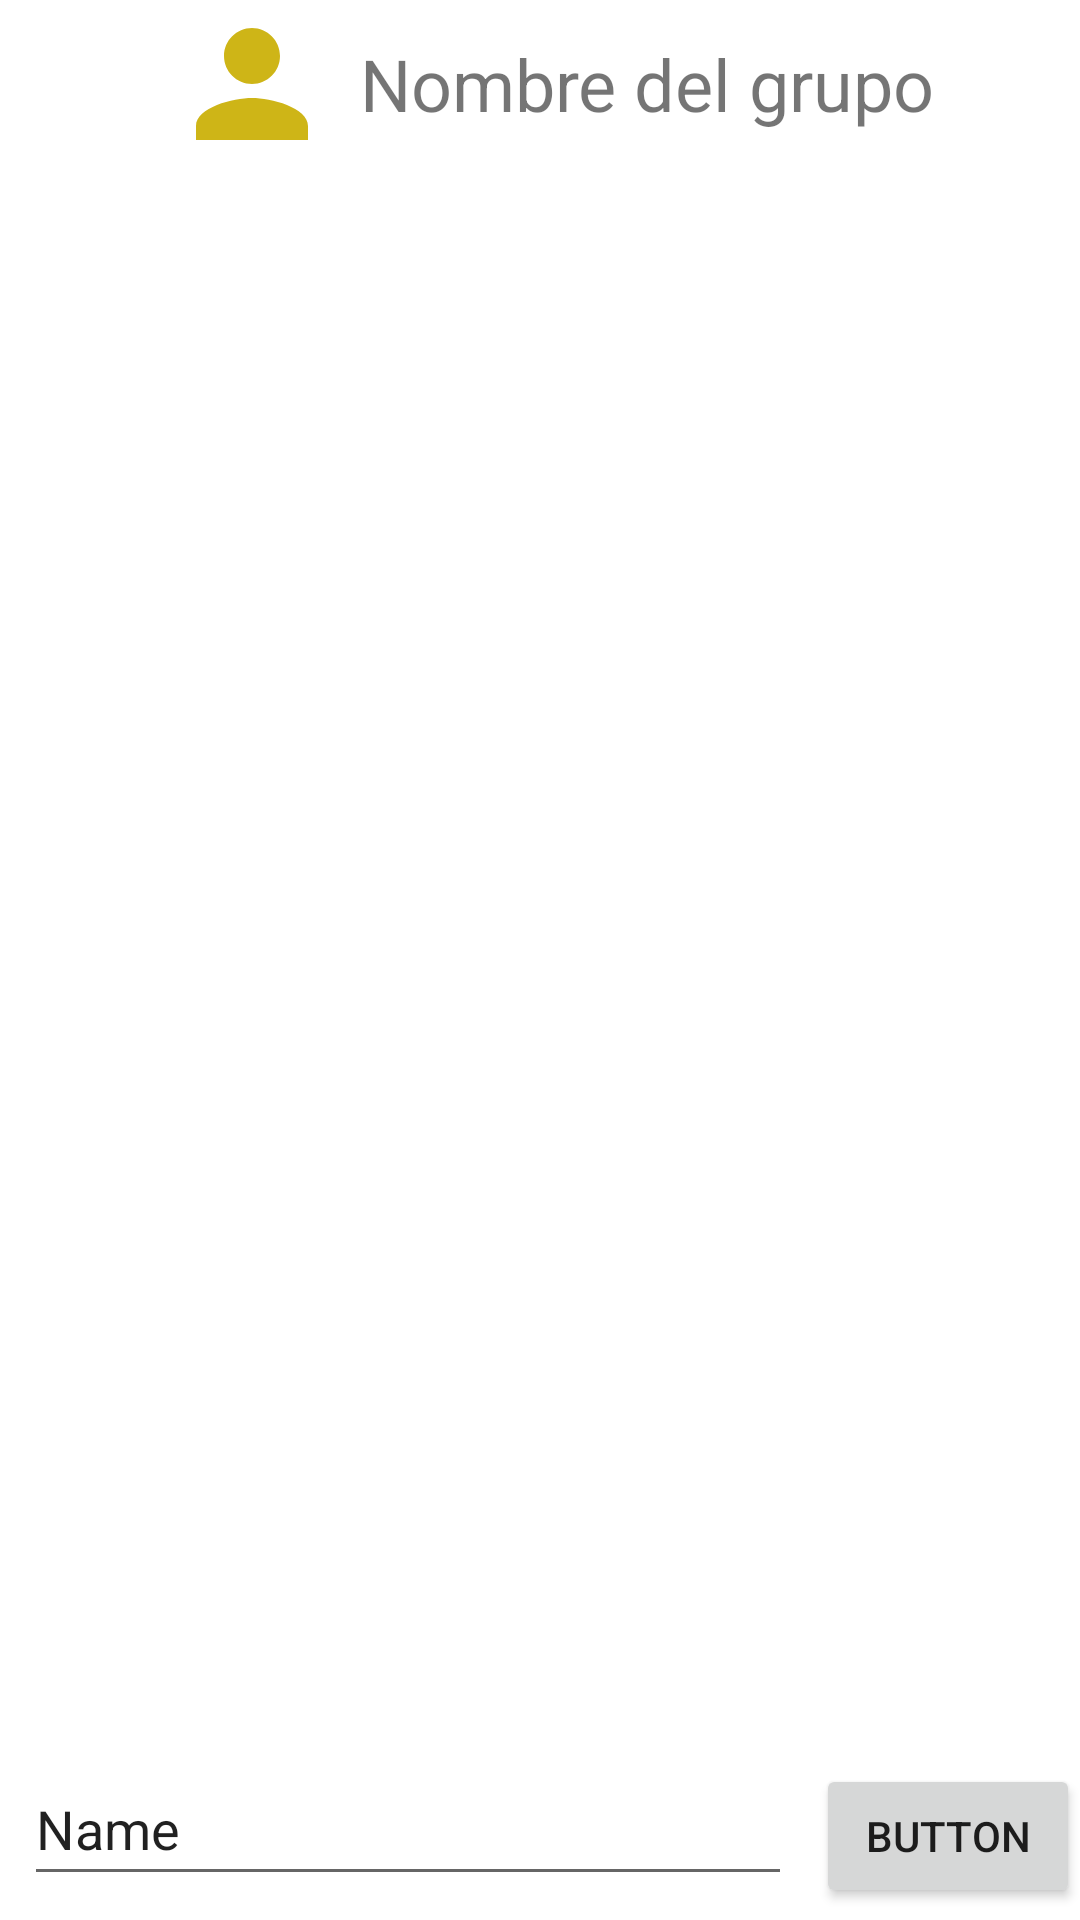

Point at icon controls on the screen. Image size 1080px x 1920px, points as point (x, y).
person: point (252, 84)
